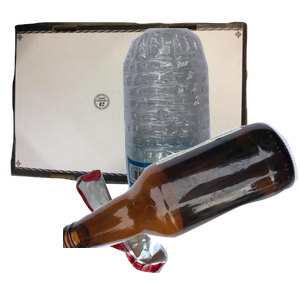cardboard: (10, 19, 250, 199)
glass: (63, 120, 300, 300)
plastic: (111, 26, 300, 206)
trash: (74, 167, 235, 300)
